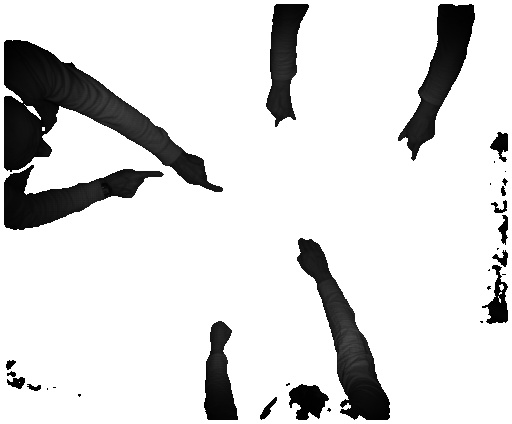fist: (208, 320, 231, 350)
hand: (392, 117, 438, 167), (177, 154, 223, 191), (109, 169, 165, 199), (296, 232, 330, 280), (264, 89, 295, 127)
